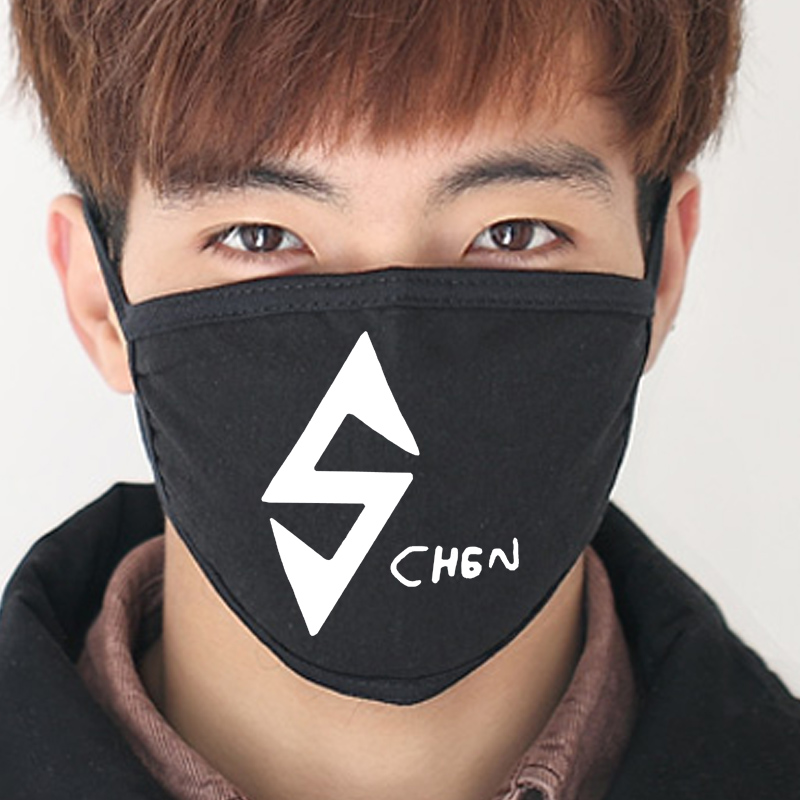face_mask: (122, 0, 665, 677)
